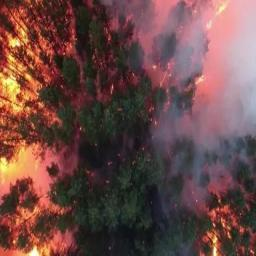Large fire: (0, 0, 252, 255)
